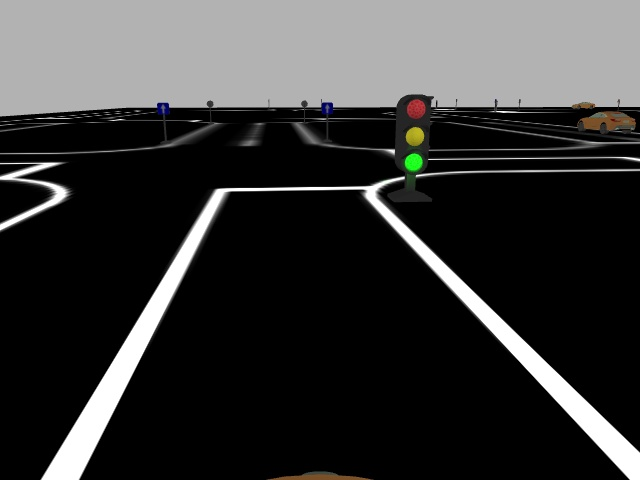green_light: (392, 92, 434, 176)
oneway: (319, 102, 334, 116), (155, 102, 169, 116)
